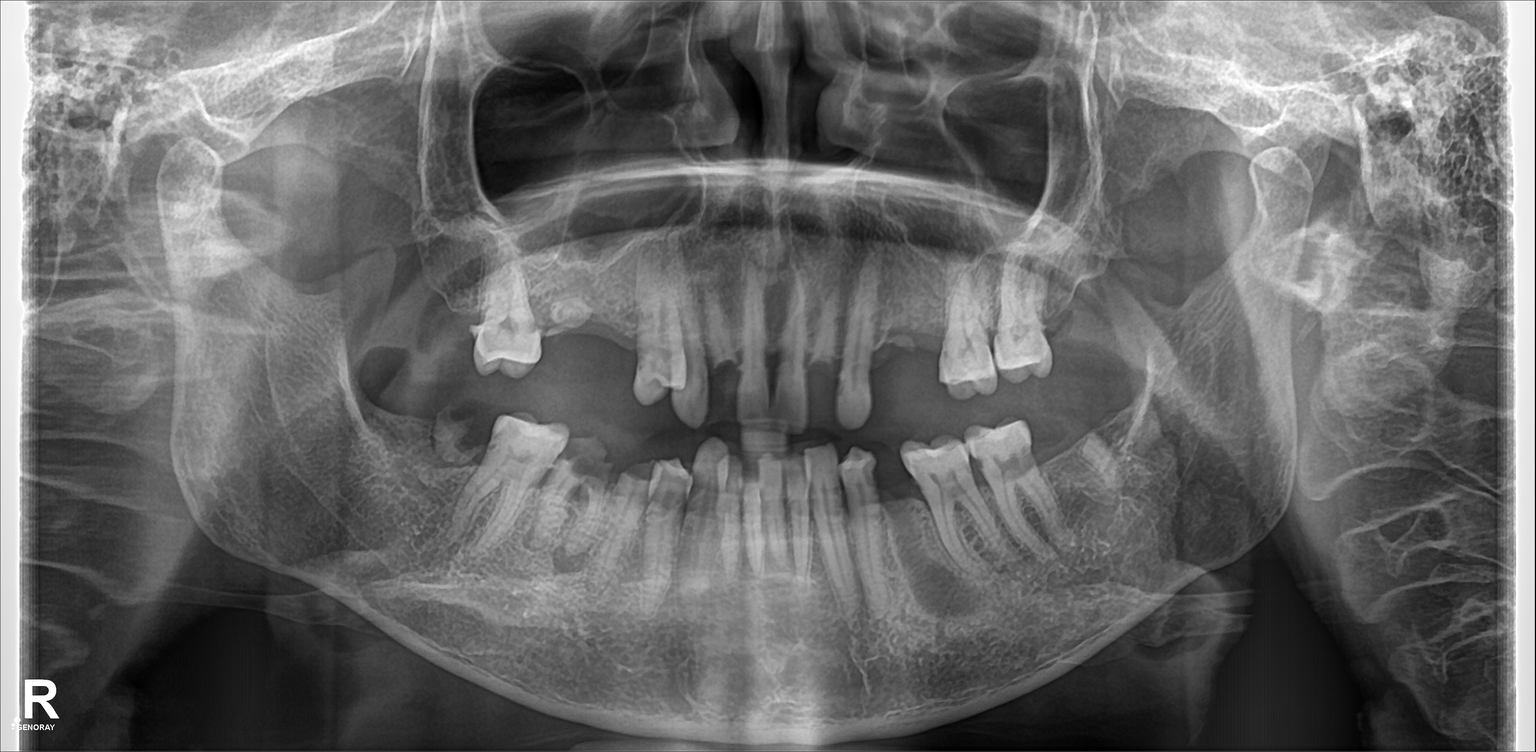Missing Tooth: (1043, 272, 1113, 362), (439, 255, 484, 371), (581, 274, 632, 375), (393, 261, 437, 365), (873, 447, 918, 544), (393, 396, 429, 509), (870, 292, 906, 404), (905, 292, 937, 389)
Periapical Lesion: (518, 477, 642, 587)
Retained Root: (1035, 417, 1116, 509), (559, 426, 606, 551), (438, 406, 487, 517), (540, 270, 584, 378)
